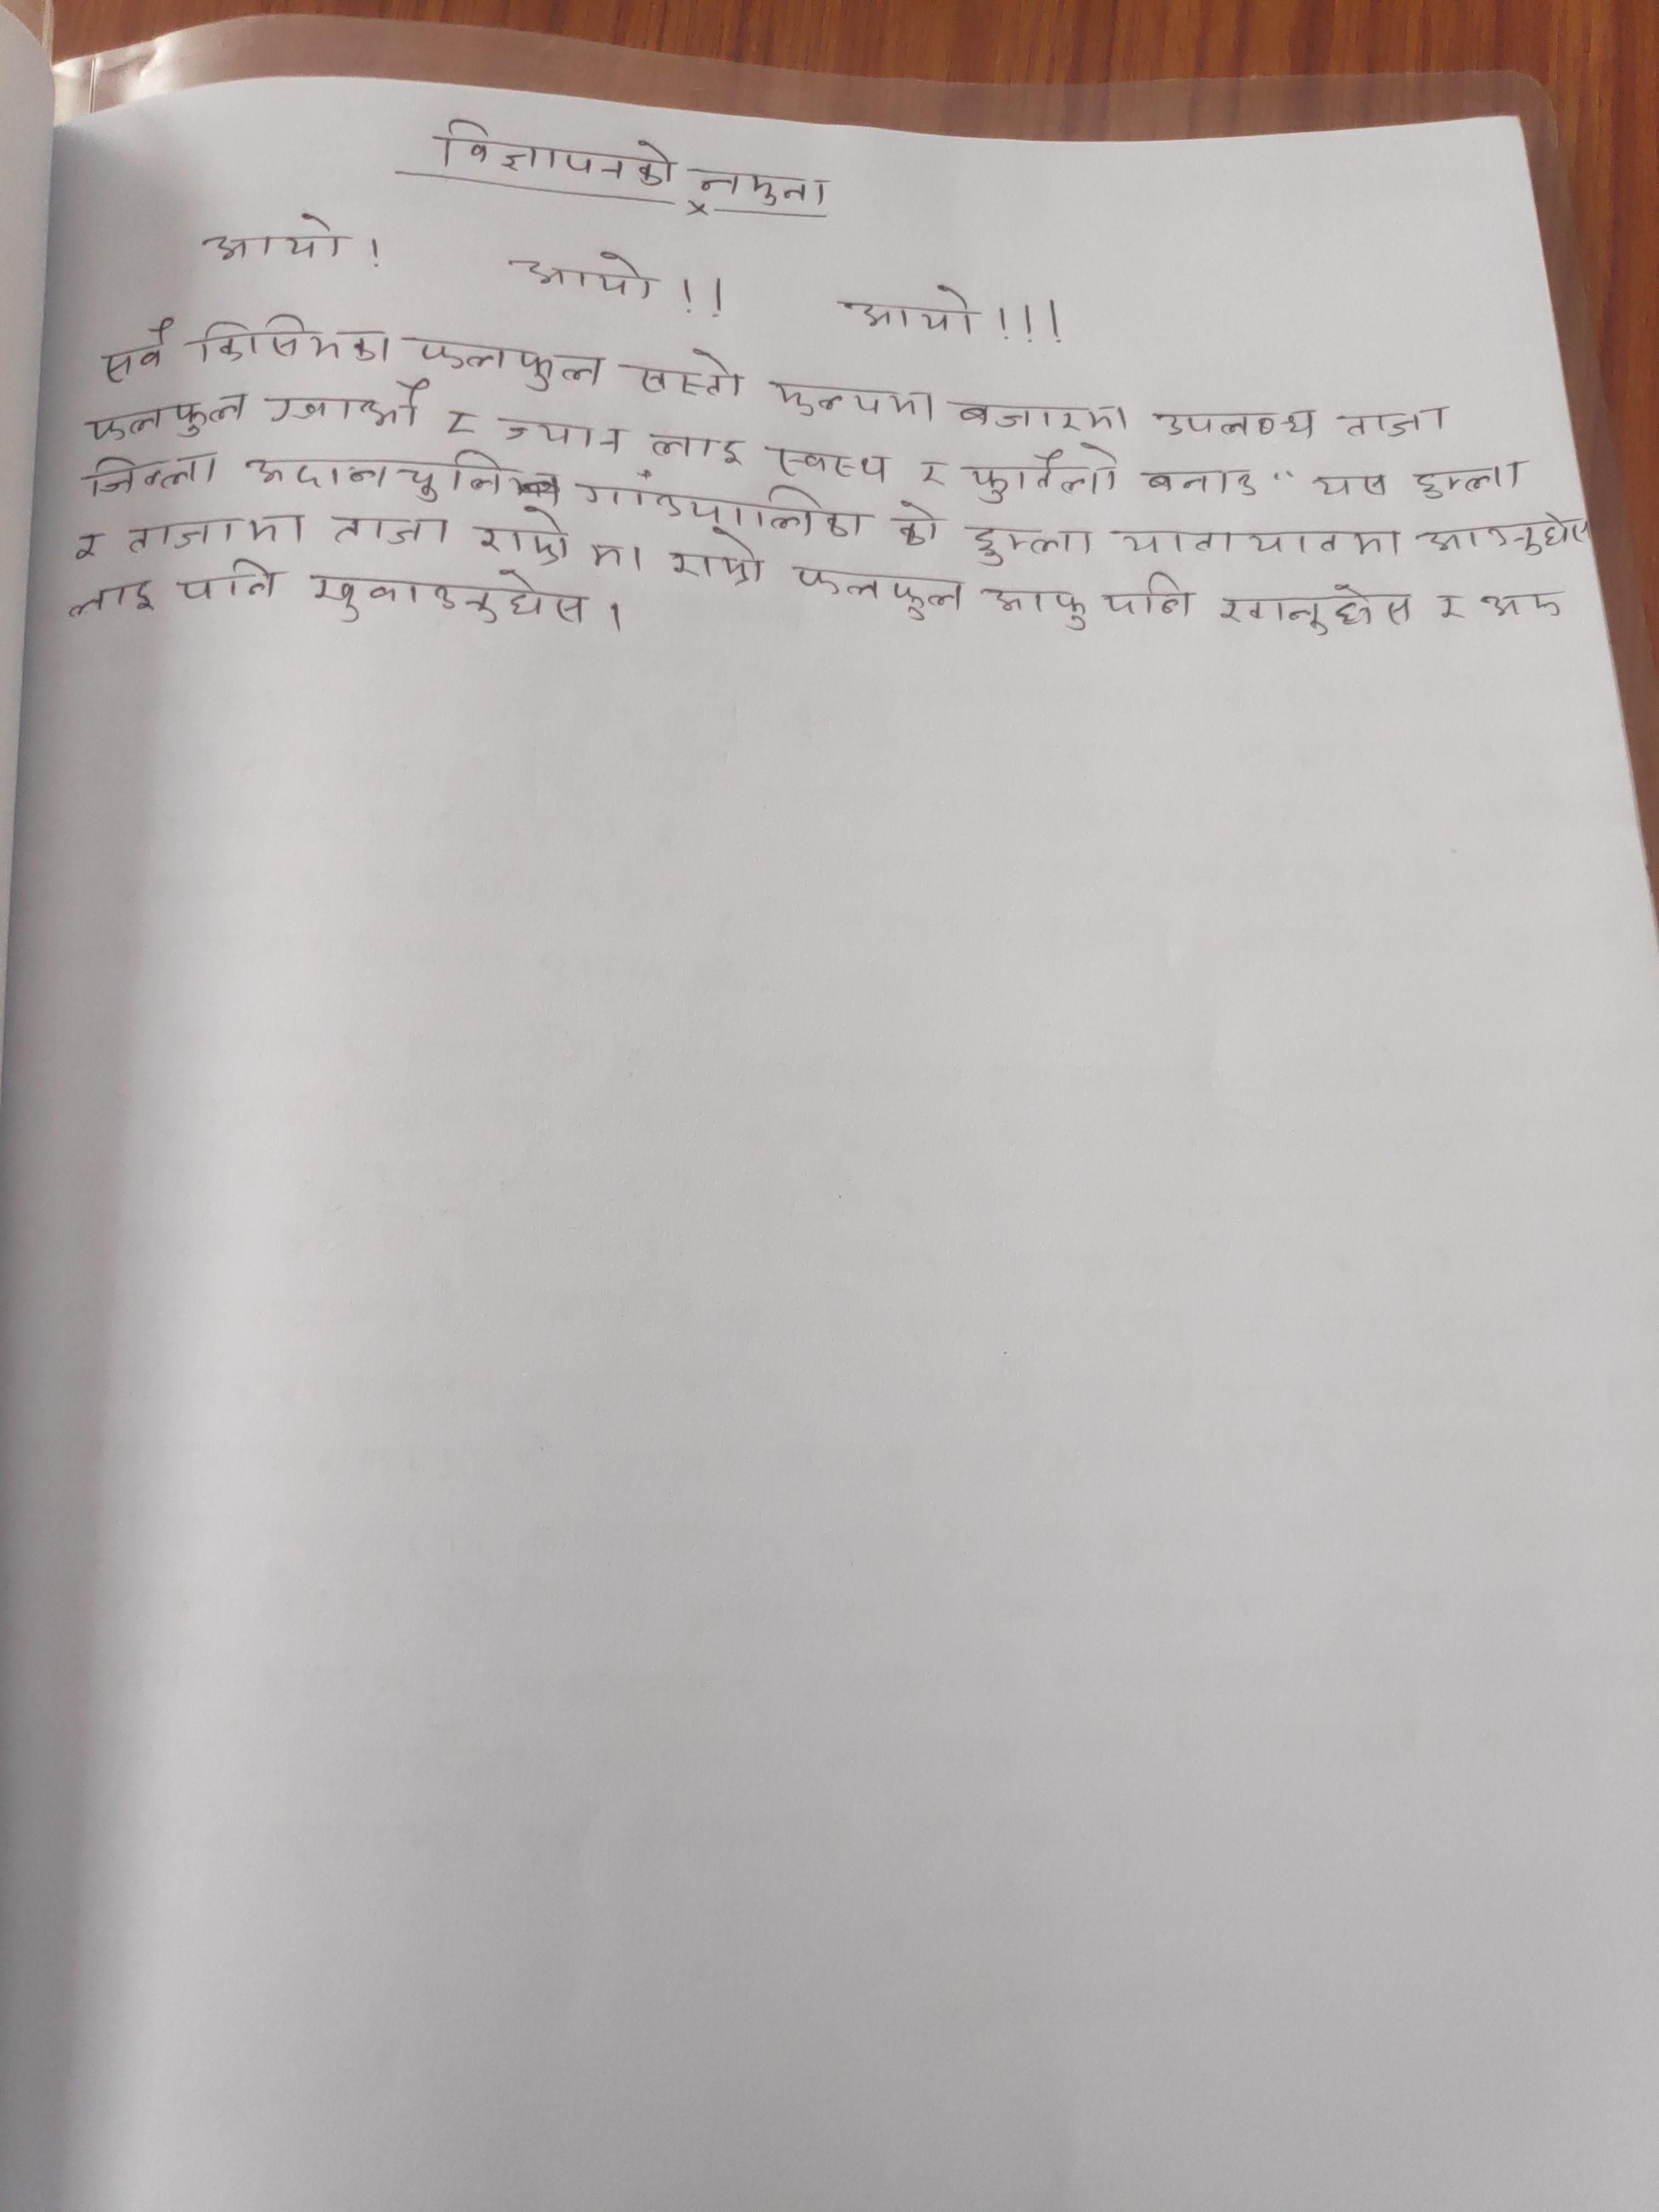text: (422, 113, 681, 199), (572, 474, 868, 538), (303, 566, 592, 631), (242, 449, 516, 507), (408, 331, 606, 390), (1215, 582, 1412, 641), (784, 561, 967, 624), (957, 441, 1124, 509), (1105, 524, 1408, 561), (186, 314, 396, 366), (190, 211, 356, 266), (838, 280, 985, 341), (500, 249, 667, 301), (75, 392, 251, 441), (763, 376, 939, 423), (1412, 512, 1593, 557), (688, 158, 840, 211), (122, 510, 310, 550), (948, 392, 1133, 432), (955, 517, 1098, 568), (469, 503, 573, 571), (1147, 408, 1323, 448), (627, 343, 749, 401), (263, 388, 423, 430), (493, 408, 627, 456), (976, 582, 1094, 636), (666, 529, 767, 592), (78, 449, 221, 493), (171, 556, 291, 603), (1098, 570, 1201, 624), (324, 509, 455, 550), (638, 421, 749, 470), (94, 317, 176, 383), (1410, 456, 1528, 502), (765, 441, 892, 482), (1134, 463, 1262, 500), (1337, 406, 1453, 442), (63, 577, 162, 618), (1480, 583, 1572, 624), (887, 502, 945, 552), (579, 540, 648, 580), (1307, 470, 1392, 502), (910, 456, 955, 498), (441, 402, 481, 439), (71, 528, 112, 561), (1429, 590, 1466, 620)
